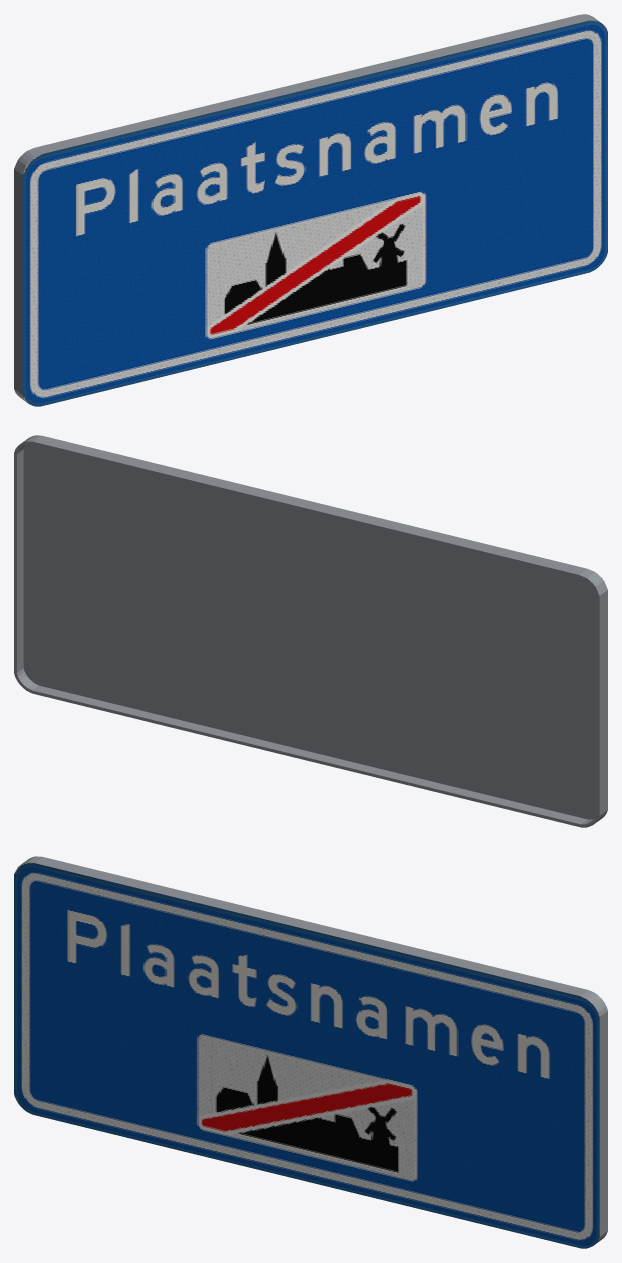
The picture shows the model from 3 angles, top to bottom: view 1: azimuth 30°, elevation 25°; view 2: azimuth 150°, elevation 25°; view 3: azimuth 330°, elevation 25°; orthographic projection.
Parts seen in each view (by area): view 1: cat_19ac686281a858c1; view 2: cat_19ac686281a858c1; view 3: cat_19ac686281a858c1.
Boxes of the visible parts, x1=… form: cat_19ac686281a858c1: x1=14, y1=14, x2=607, y2=406; cat_19ac686281a858c1: x1=14, y1=435, x2=607, y2=827; cat_19ac686281a858c1: x1=14, y1=856, x2=607, y2=1248.
Bounding box in the file's own units: 0.6 × 0.015 × 0.2468.
Materials: 2 (1 with a texture image).
